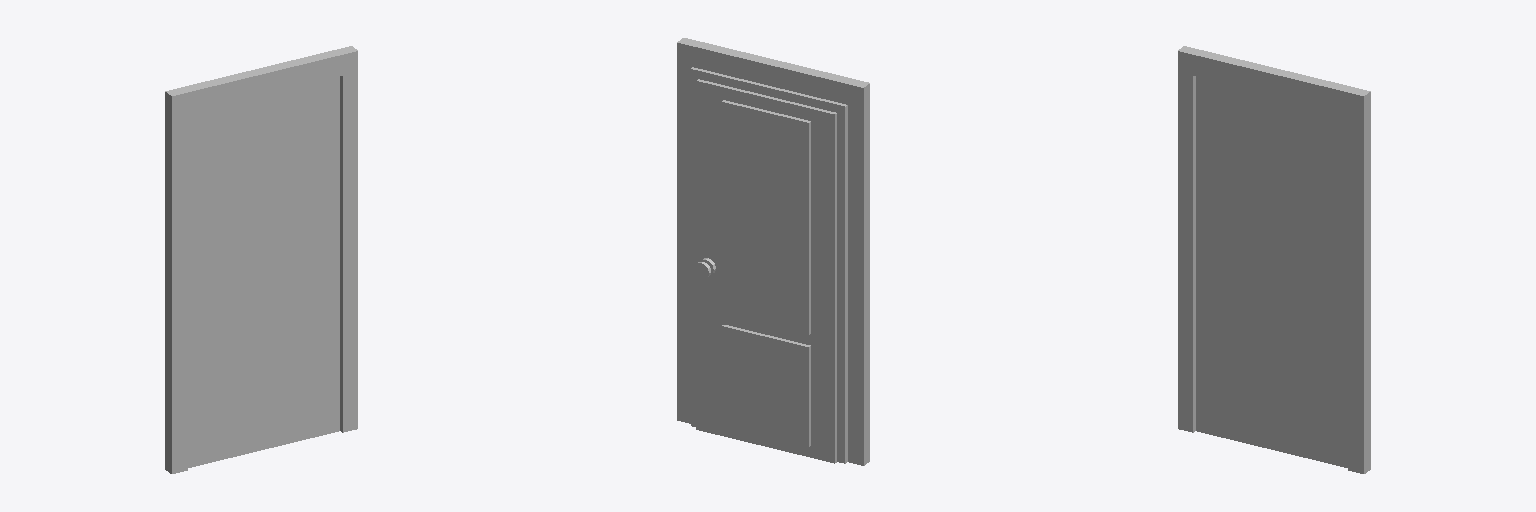
The picture shows the model from 3 angles: view 1: azimuth 30°, elevation 25°; view 2: azimuth 150°, elevation 25°; view 3: azimuth 330°, elevation 25°; orthographic projection.
Visible parts, largest first — view 1: group[number redacted], group[number redacted]; view 2: group[number redacted], group[number redacted]; view 3: group[number redacted], group[number redacted].
Boxes of the visible parts, <box> form: group[number redacted]: <box>193,84,331,466</box>; group[number redacted]: <box>165,46,357,473</box>; group[number redacted]: <box>693,79,836,463</box>; group[number redacted]: <box>677,38,869,465</box>; group[number redacted]: <box>1204,84,1342,466</box>; group[number redacted]: <box>1178,46,1370,473</box>.
Bounding box in the file's own units: 0.47 × 0.91 × 0.08.